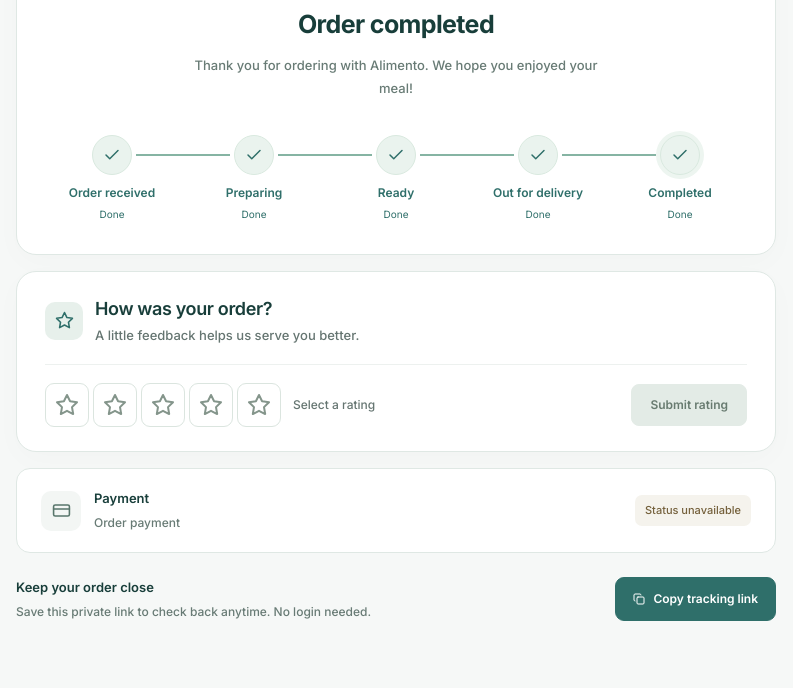
rating errors stay inside the rating card and preserve selection for retry
(page scrolled)
Click the button named "4 stars" at (211, 405), box [189,383,233,427]
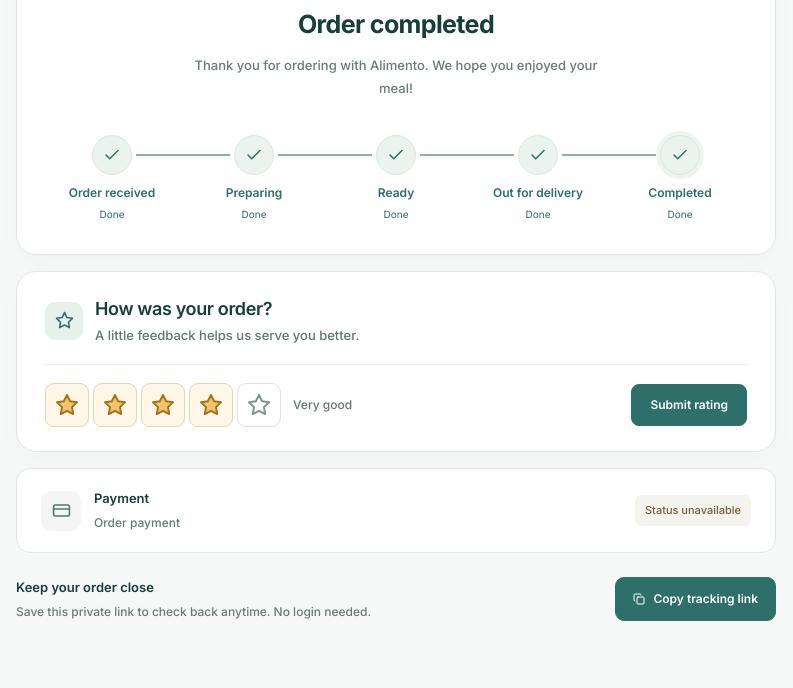
Click the button "Submit rating" at (689, 405), box [631,384,747,426]
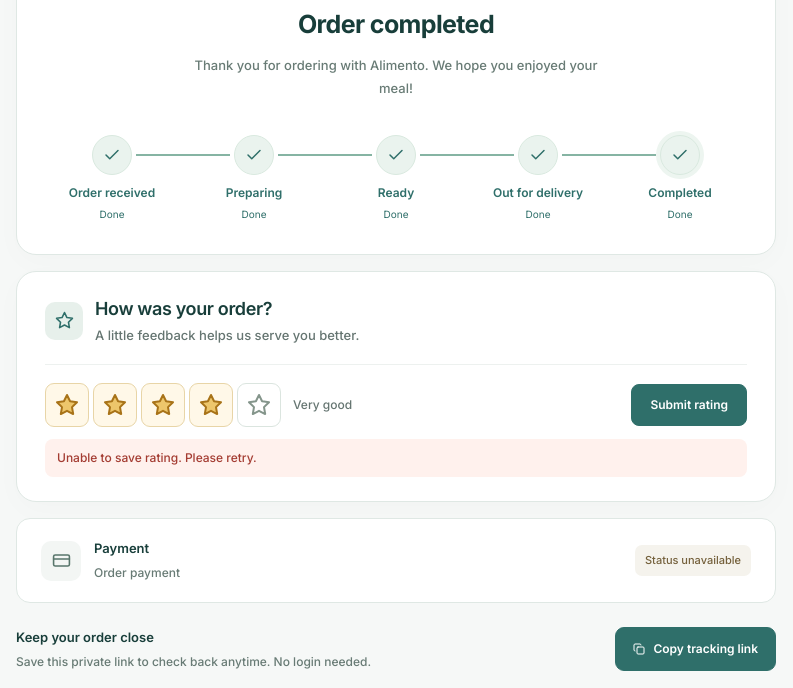
Now the message "Unable to save rating. Please retry." is shown, box [45,439,747,477]
Click the button "Submit rating" at (689, 405), box [631,384,747,426]
(page scrolled)
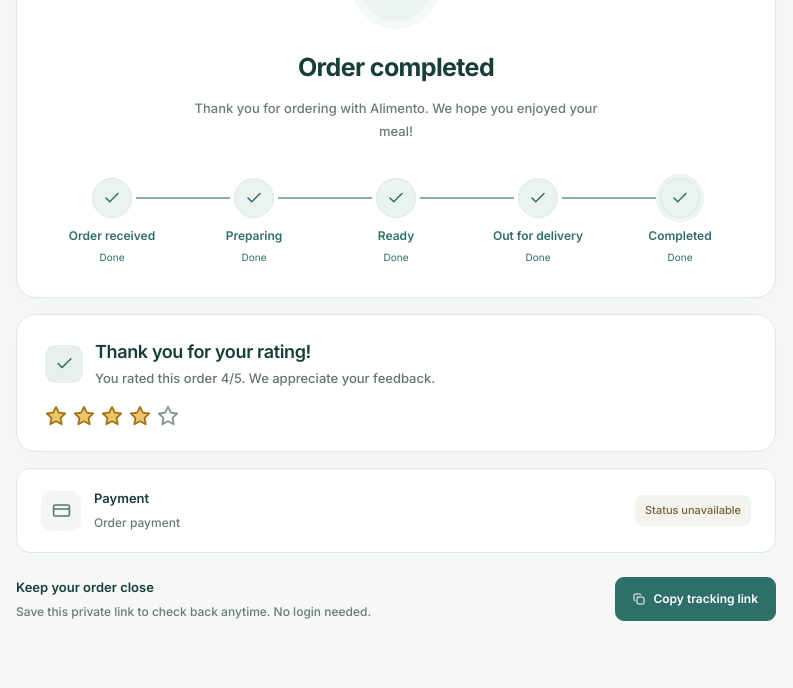
Now the message named "4 out of 5 stars" is shown, box [45,405,179,427]
Now the button "Submit rating" is gone
